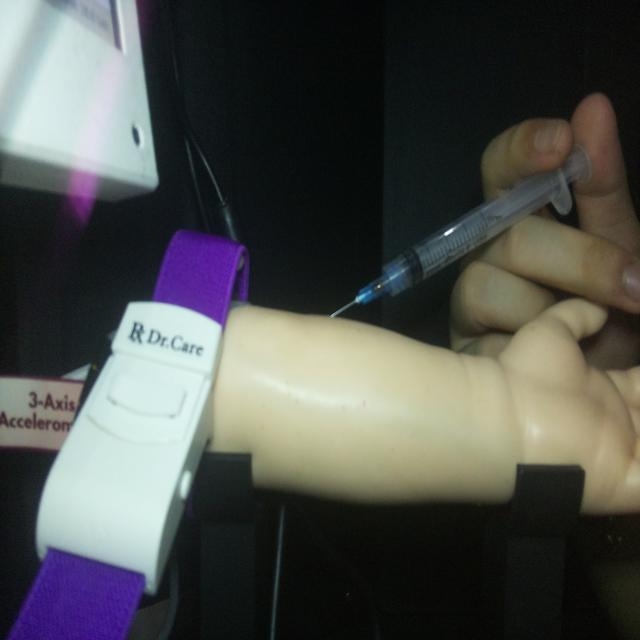25 degrees: (328, 141, 593, 321)
